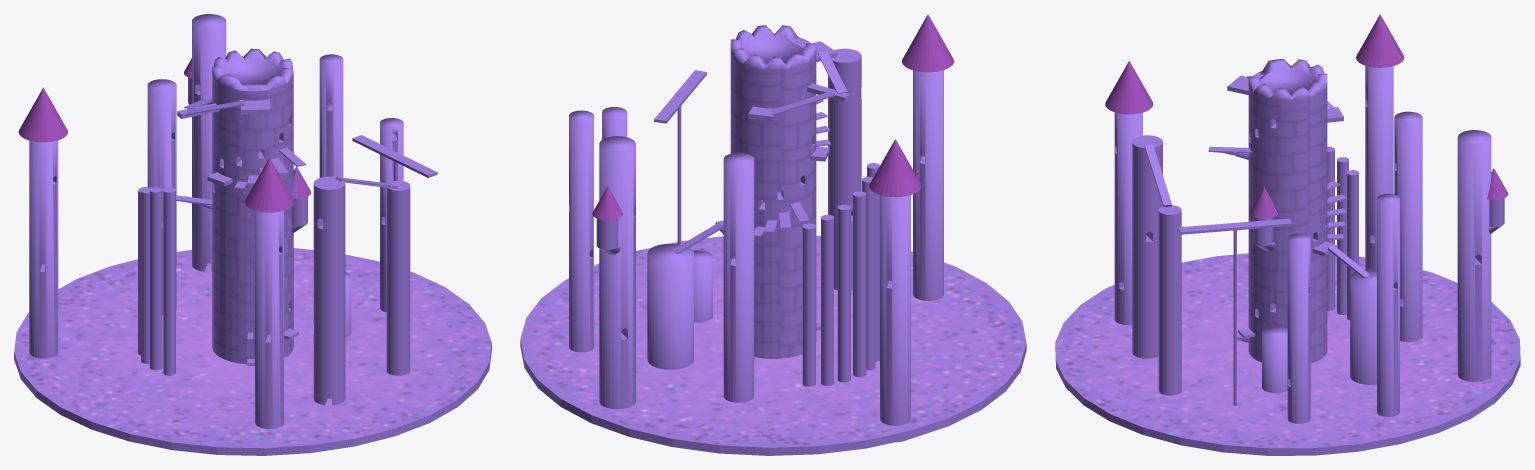
The model's file is Level5UPGRADE.fbx.
The picture shows the model from 3 angles, left to right: view 1: azimuth 30°, elevation 25°; view 2: azimuth 150°, elevation 25°; view 3: azimuth 270°, elevation 25°; orthographic projection. The views are drawn at different scales.
Parts seen in each view (by area): view 1: Cylinder.058, Cylinder.057, Cylinder.041, Cylinder.061, Cylinder.062, Cylinder.027, Cylinder.038, Cylinder.028, Cylinder.035, Cylinder.048, Cylinder.045, Cylinder.037 (+6 smaller); view 2: Cylinder.058, Cylinder.057, Cylinder.027, Cylinder.028, Cylinder.061, Cylinder.062, Cylinder.035, Cylinder.055, Cylinder.041, Cylinder.049, Cylinder.050, Cylinder.052 (+11 smaller); view 3: Cylinder.058, Cylinder.057, Cylinder.027, Cylinder.041, Cylinder.028, Cylinder.035, Cylinder.061, Cylinder.037, Cylinder.038, Cylinder.062, Cylinder.055, Cylinder.056 (+11 smaller).
Boxes of the visible parts, box(x1,y1,x2,y2) form: Cylinder.058: box(14, 248, 491, 455); Cylinder.057: box(212, 48, 293, 364); Cylinder.041: box(313, 176, 345, 405); Cylinder.061: box(29, 140, 58, 358); Cylinder.062: box(255, 210, 283, 428); Cylinder.027: box(192, 14, 226, 271); Cylinder.038: box(386, 180, 410, 375); Cylinder.028: box(147, 79, 176, 315); Cylinder.035: box(319, 54, 343, 177); Cylinder.048: box(149, 187, 162, 370); Cylinder.045: box(163, 187, 175, 375); Cylinder.037: box(380, 118, 403, 312); Cylinder.058: box(520, 235, 1026, 455); Cylinder.057: box(730, 25, 816, 358); Cylinder.027: box(599, 136, 635, 409); Cylinder.028: box(723, 152, 754, 402); Cylinder.061: box(880, 195, 910, 442); Cylinder.062: box(913, 70, 943, 300); Cylinder.035: box(569, 110, 593, 352); Cylinder.055: box(647, 243, 693, 369); Cylinder.041: box(828, 48, 861, 290); Cylinder.049: box(853, 191, 866, 377); Cylinder.050: box(837, 204, 850, 382); Cylinder.052: box(802, 223, 815, 386); Cylinder.058: box(1055, 253, 1520, 455); Cylinder.057: box(1248, 59, 1327, 363); Cylinder.027: box(1457, 130, 1491, 381); Cylinder.041: box(1132, 135, 1162, 358); Cylinder.028: box(1394, 111, 1422, 342); Cylinder.035: box(1377, 193, 1399, 416); Cylinder.061: box(1365, 66, 1393, 268); Cylinder.037: box(1287, 233, 1310, 423); Cylinder.038: box(1158, 205, 1181, 395); Cylinder.062: box(1114, 112, 1142, 325); Cylinder.055: box(1350, 268, 1376, 384); Cylinder.056: box(1262, 326, 1287, 392).
Size of the model in its own units: 24460 by 18344 by 24460.
